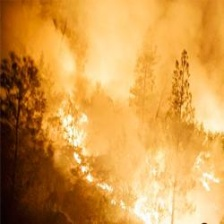fire: (52, 61, 223, 224)
